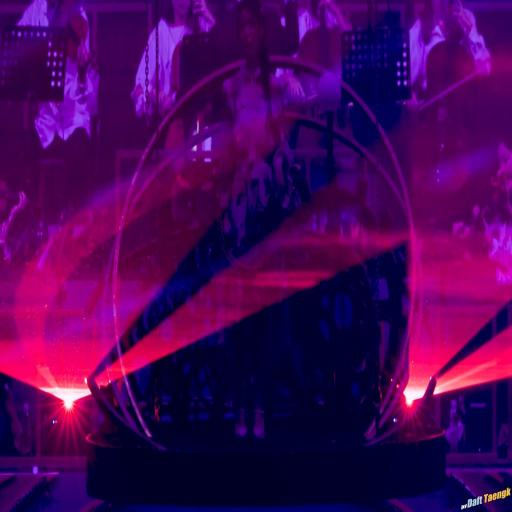IU: (238, 0, 266, 64)
